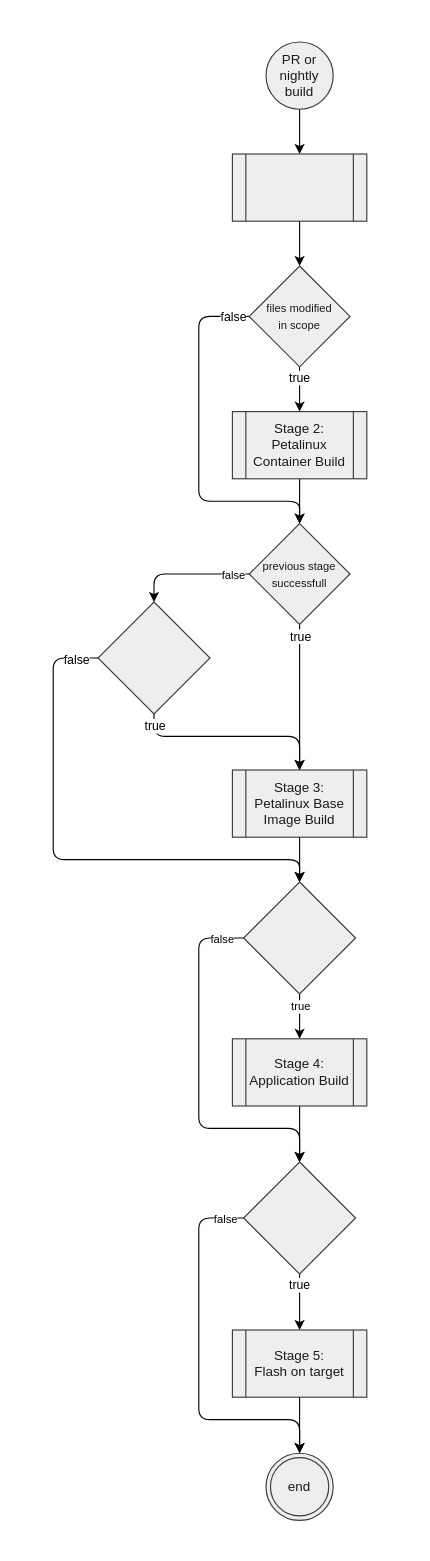
This 430x1561 diagram has some shape labels left out. Each missing label, with the box of its shape:
previous stage skipped and files modified in scope: (97, 601, 210, 714)
previous stage skipped or succeeded: (242, 881, 356, 994)
previous stage succeeded: (242, 1161, 356, 1274)
Stage 1: File Differenze Check: (231, 153, 367, 221)
